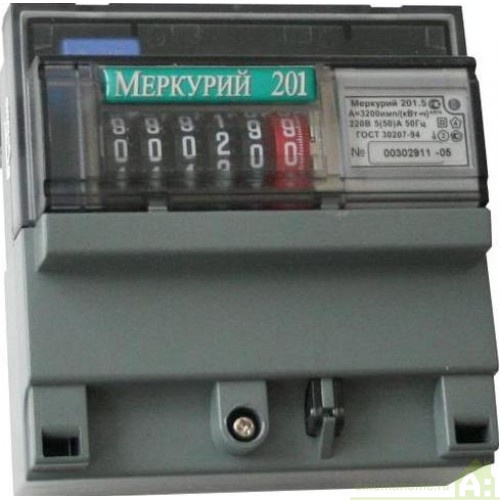counter: (9, 0, 494, 464)
counter_screen: (93, 99, 323, 183)
